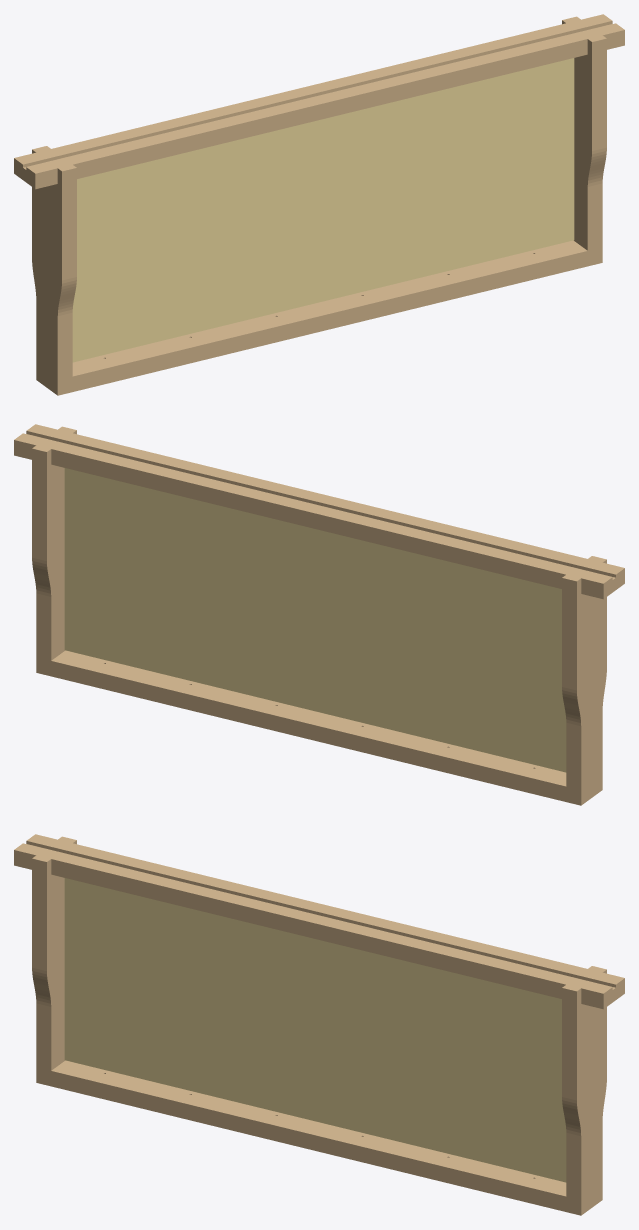
Rendered from hls.glb.
3 views of the same model, one above another, from view 1: azimuth 30°, elevation 25°; view 2: azimuth 150°, elevation 25°; view 3: azimuth 330°, elevation 25° (orthographic).
Visible parts, largest first — view 1: Mellanvagg, Overlist, Underlist, Sidolist_V, Sidolist_H; view 2: Mellanvagg, Overlist, Underlist, Sidolist_V, Sidolist_H; view 3: Mellanvagg, Overlist, Underlist, Sidolist_H, Sidolist_V.
Part boxes in pixels (bbox=[...]): Mellanvagg: bbox=[72, 58, 574, 362]; Overlist: bbox=[14, 14, 624, 189]; Underlist: bbox=[36, 240, 602, 395]; Sidolist_V: bbox=[32, 146, 76, 390]; Sidolist_H: bbox=[562, 16, 606, 250]; Mellanvagg: bbox=[64, 468, 566, 772]; Overlist: bbox=[14, 424, 624, 599]; Underlist: bbox=[36, 650, 602, 805]; Sidolist_V: bbox=[562, 556, 606, 800]; Sidolist_H: bbox=[32, 426, 76, 660]; Mellanvagg: bbox=[64, 878, 566, 1182]; Overlist: bbox=[14, 834, 624, 1009]; Underlist: bbox=[36, 1060, 602, 1215]; Sidolist_H: bbox=[562, 966, 606, 1210]; Sidolist_V: bbox=[32, 836, 76, 1070].
Size of the model in its own units: 396 by 146 by 35.
